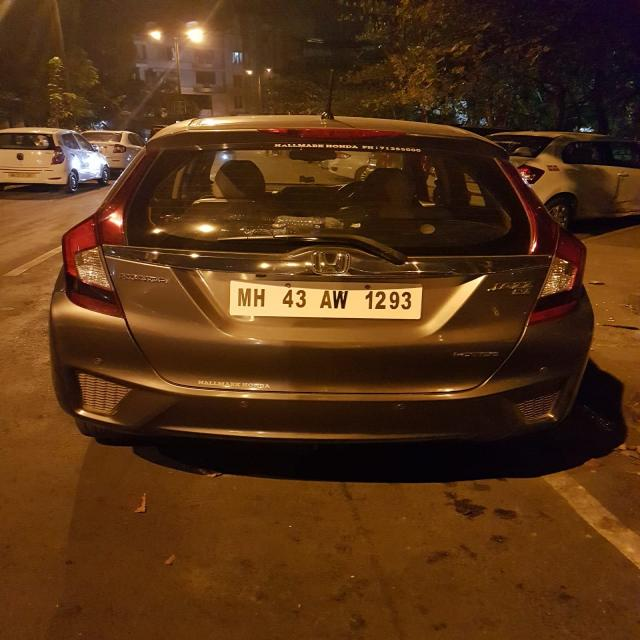Number-Plate: (228, 279, 424, 315)
